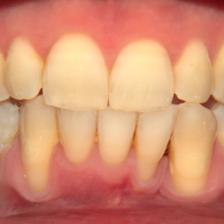cavity: (129, 127, 143, 147), (165, 136, 176, 158), (93, 127, 103, 143)
